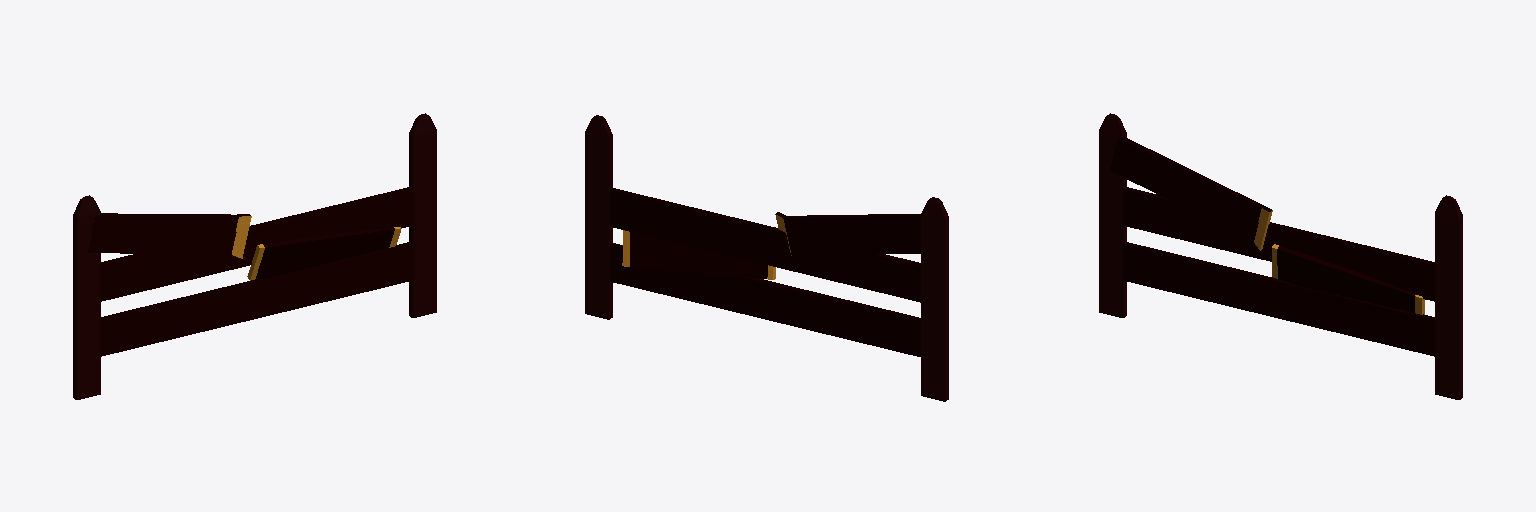
The model's file is BrokenFence1.obj.
3 renders of one model, left to right at view 1: azimuth 30°, elevation 25°; view 2: azimuth 150°, elevation 25°; view 3: azimuth 330°, elevation 25°, orthographic.
Visible parts, largest first — view 1: Cube.004, Cube.002, Cube.003, Cube.006, Cube.001, Cube.005; view 2: Cube.002, Cube.004, Cube.001, Cube.006, Cube.003, Cube.005; view 3: Cube.004, Cube.002, Cube.003, Cube.006, Cube.001, Cube.005.
Part boxes in pixels (x1,y1,x2,y2): Cube.004: (101,242,412,356); Cube.002: (101,187,412,301); Cube.003: (88,213,251,258); Cube.006: (409,113,436,317); Cube.001: (73,195,100,399); Cube.005: (247,227,401,280); Cube.002: (610,188,920,302); Cube.004: (610,243,920,356); Cube.001: (921,197,948,401); Cube.006: (585,115,612,319); Cube.003: (775,212,920,255); Cube.005: (622,230,775,279); Cube.004: (1123,242,1434,356); Cube.002: (1123,187,1434,301); Cube.003: (1110,137,1272,250); Cube.006: (1435,195,1462,399); Cube.001: (1099,113,1126,317); Cube.005: (1272,244,1424,314).
Size of the model in its own units: 4.31 by 2.28 by 0.2615.